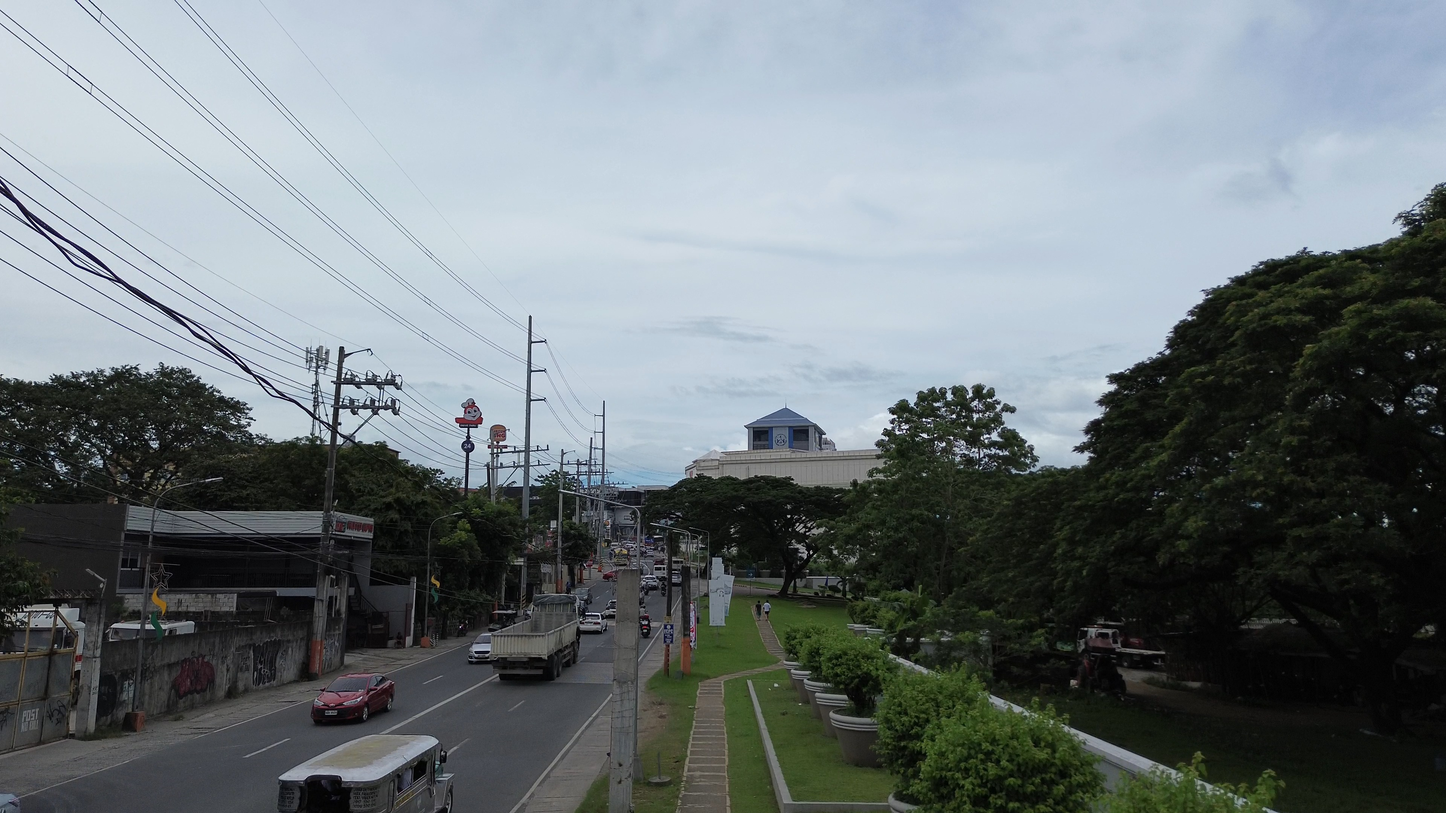car: (602, 570, 616, 580)
motorcycle: (639, 620, 651, 638)
truck: (492, 594, 580, 680)
vehicle: (276, 735, 453, 813), (0, 605, 85, 676), (311, 673, 395, 723), (1077, 625, 1165, 668), (106, 621, 154, 641), (468, 633, 491, 663), (579, 613, 607, 633), (573, 587, 592, 606), (640, 575, 660, 589), (639, 615, 651, 638), (602, 599, 616, 618), (671, 570, 682, 585)
